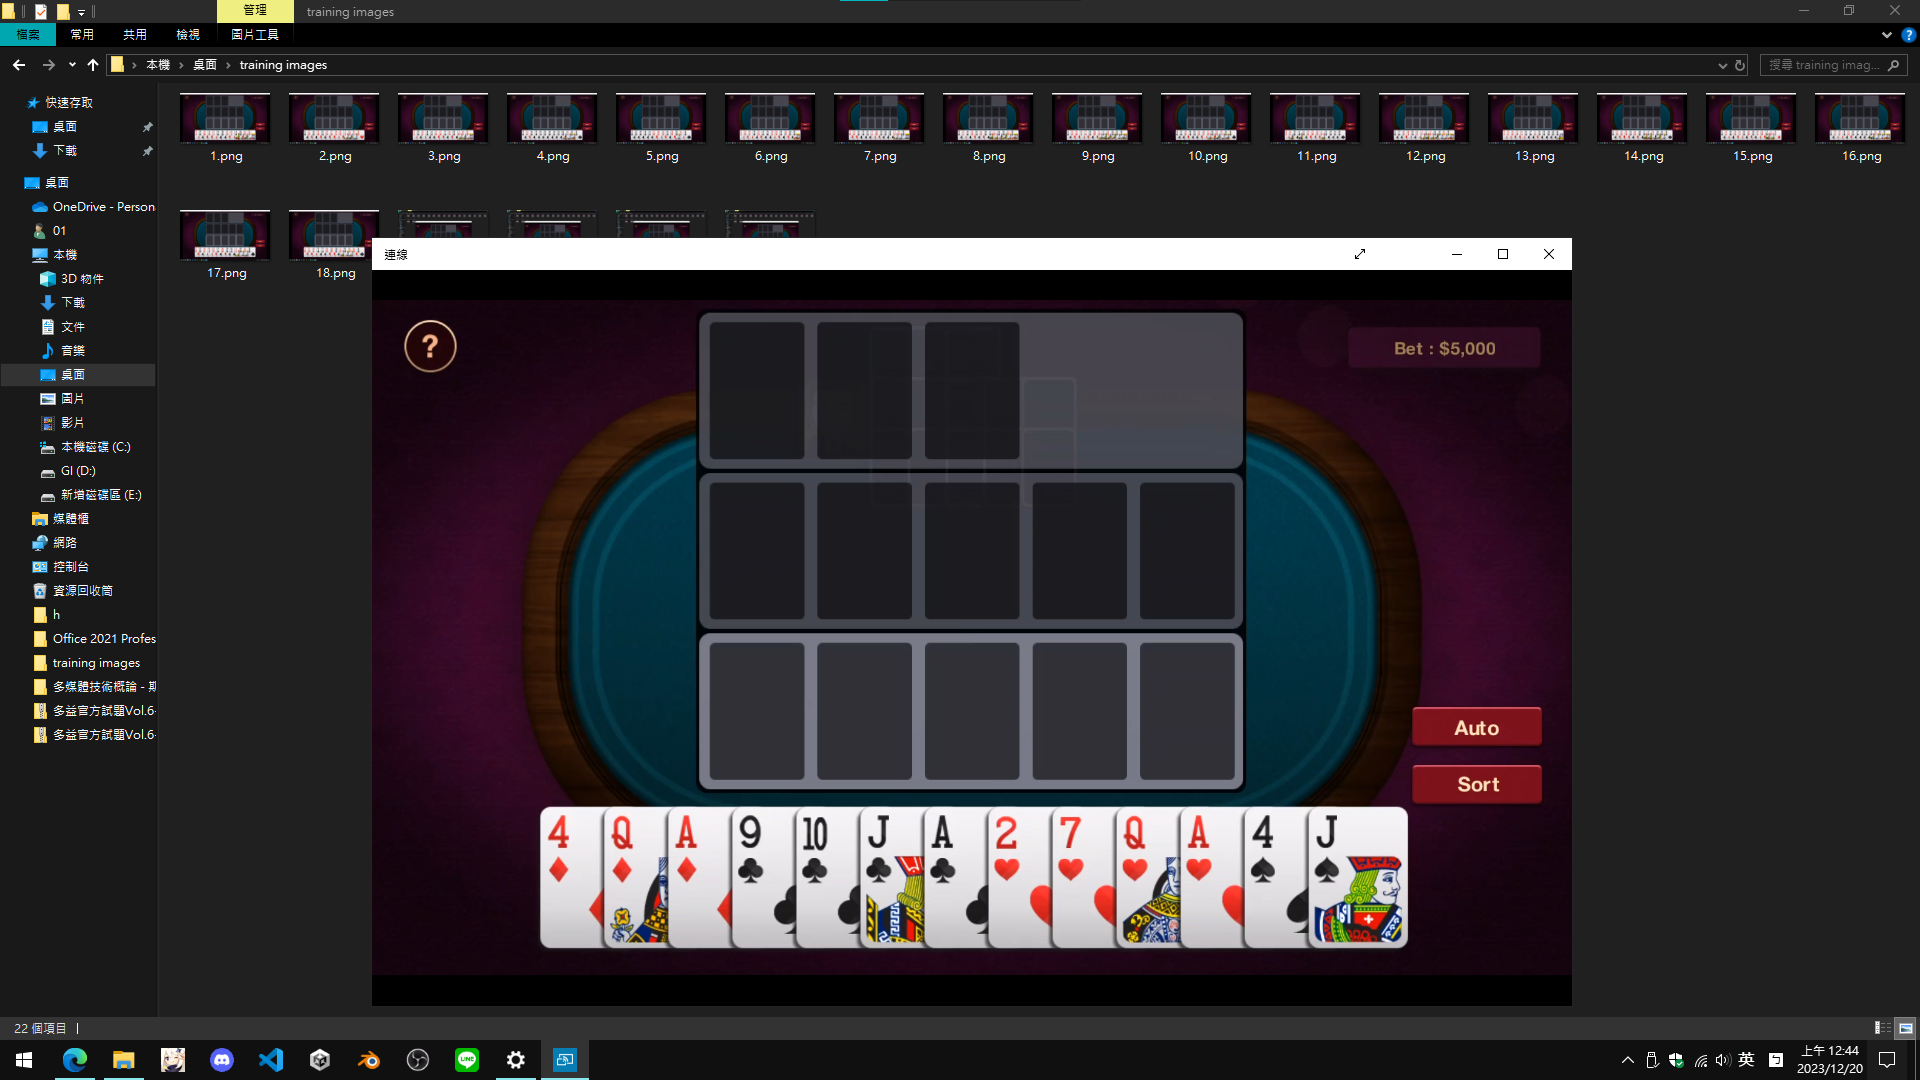10C: (799, 814, 833, 885)
2H: (992, 814, 1025, 885)
4D: (546, 810, 570, 886)
4S: (1247, 811, 1279, 891)
7H: (1058, 812, 1087, 886)
9C: (736, 811, 766, 889)
AC: (928, 811, 960, 891)
AD: (674, 811, 702, 886)
AH: (1183, 812, 1218, 885)
JC: (864, 811, 893, 887)
JS: (1311, 810, 1348, 889)
QD: (608, 810, 641, 886)
QH: (1122, 814, 1150, 886)
